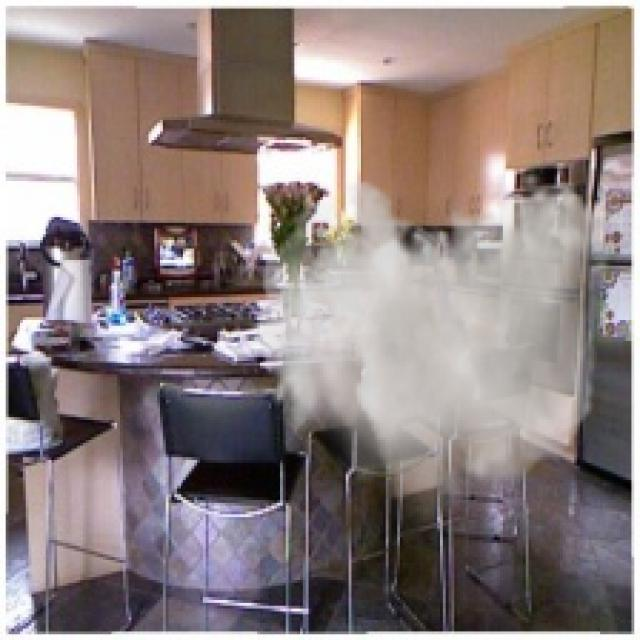Smoke: (257, 168, 612, 534)
